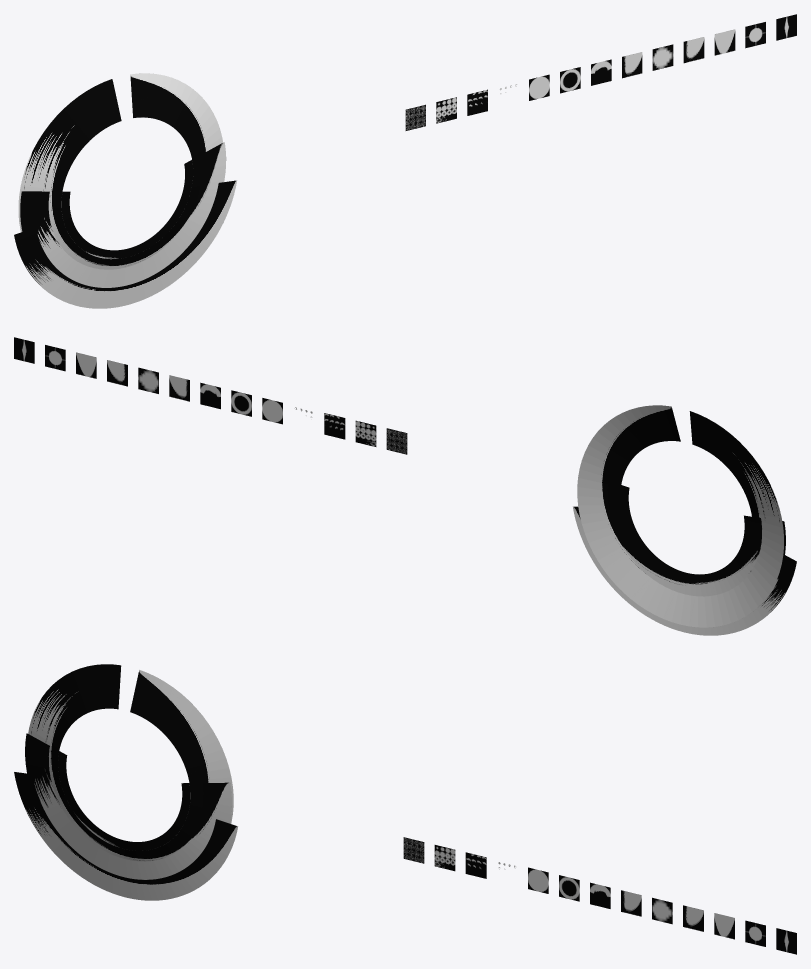
The model's file is EasyVFX_Pack.fbx.
The picture shows the model from 3 angles, top to bottom: view 1: azimuth 30°, elevation 25°; view 2: azimuth 150°, elevation 25°; view 3: azimuth 330°, elevation 25°; orthographic projection.
Parts seen in each view (by area): view 1: EVFX_Mesh_SpinRing, EVFX_Mesh_SlashWide, EVFX_Mesh_SlashThin; view 2: EVFX_Mesh_SpinRing, EVFX_Mesh_SlashWide, EVFX_Mesh_SlashThin; view 3: EVFX_Mesh_SpinRing, EVFX_Mesh_SlashWide, EVFX_Mesh_SlashThin.
Part boxes in pixels (x1,y1,x2,y2): EVFX_Mesh_SpinRing: [18, 73, 222, 269]; EVFX_Mesh_SlashWide: [20, 142, 226, 287]; EVFX_Mesh_SlashThin: [14, 180, 236, 308]; EVFX_Mesh_SpinRing: [577, 405, 783, 627]; EVFX_Mesh_SlashWide: [607, 481, 785, 609]; EVFX_Mesh_SlashThin: [573, 506, 796, 635]; EVFX_Mesh_SpinRing: [28, 664, 233, 861]; EVFX_Mesh_SlashWide: [25, 733, 231, 879]; EVFX_Mesh_SlashThin: [14, 772, 237, 900].
Bounding box in the file's own units: 37.92 × 10.48 × 0.5.
15 materials, 15 textured.
